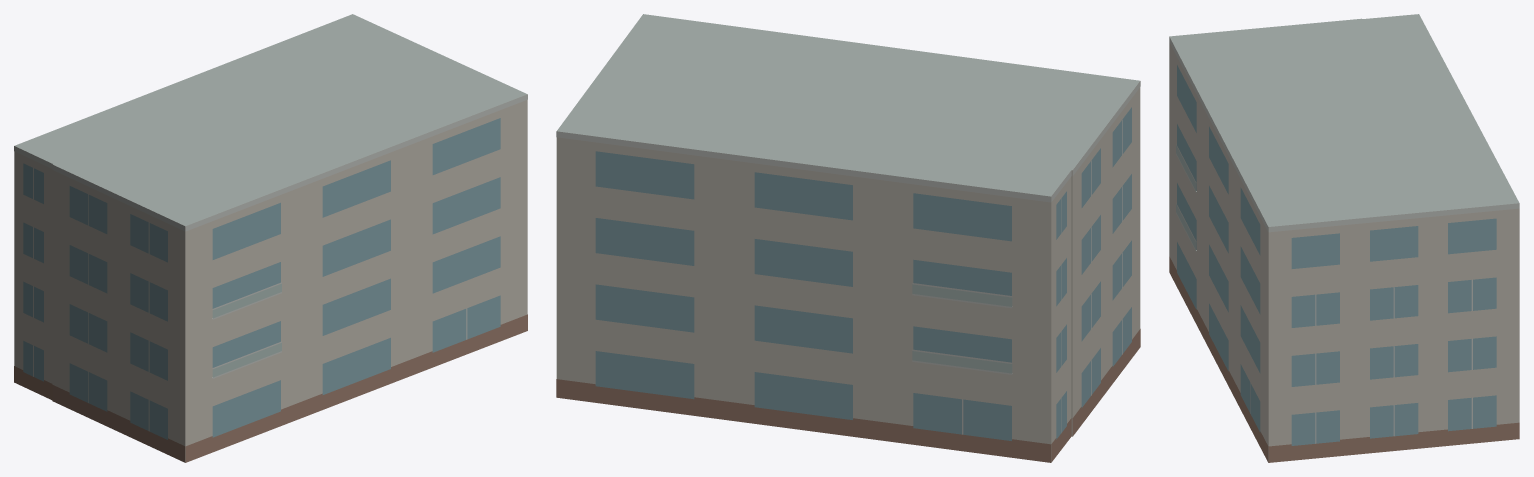
Rendered from survey-upis-32838938.glb.
The picture shows the model from 3 angles, left to right: view 1: azimuth 30°, elevation 25°; view 2: azimuth 150°, elevation 25°; view 3: azimuth 270°, elevation 25°; orthographic projection. The views are drawn at different scales.
Parts seen in each view (by area): view 1: survey-upis-32838938.tmp; view 2: survey-upis-32838938.tmp; view 3: survey-upis-32838938.tmp.
Part boxes in pixels (<box>): survey-upis-32838938.tmp: <box>14,14,527,462</box>; survey-upis-32838938.tmp: <box>556,14,1140,462</box>; survey-upis-32838938.tmp: <box>1169,14,1519,462</box>.
Bounding box in the file's own units: 21.03 × 10.85 × 14.62.
